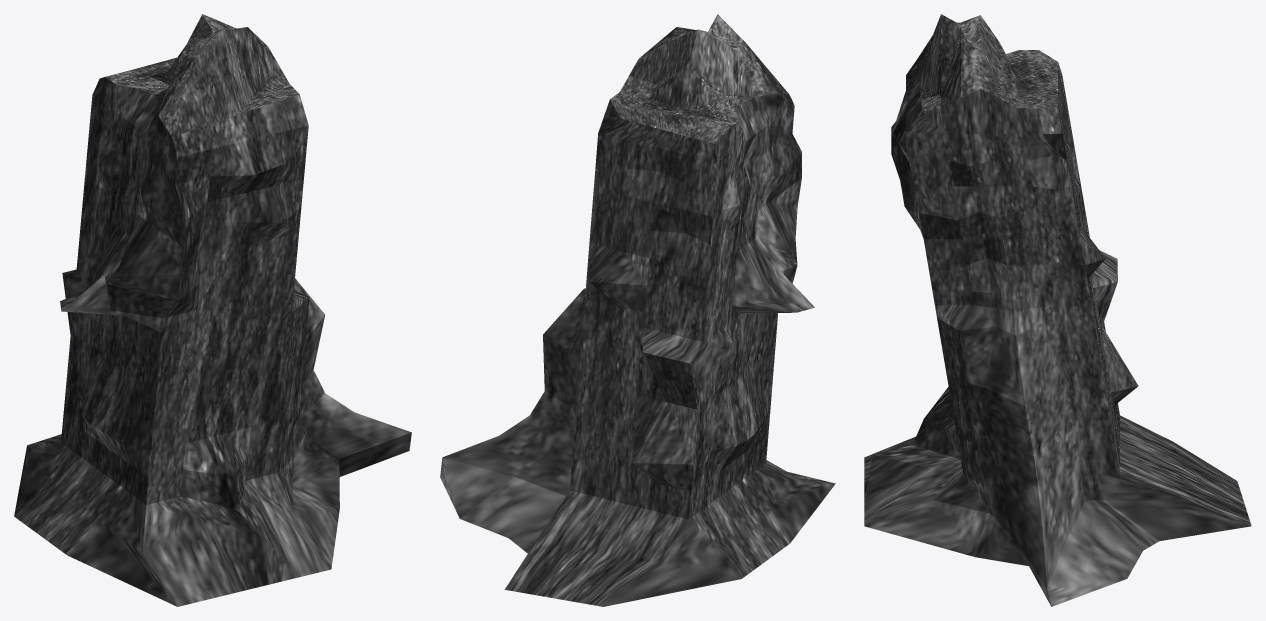
File: skaly2 .glb
3 views of the same model, side by side, from view 1: azimuth 30°, elevation 25°; view 2: azimuth 150°, elevation 25°; view 3: azimuth 270°, elevation 25° (orthographic). The views are drawn at different scales.
Visible parts, largest first — view 1: Cube; view 2: Cube; view 3: Cube.
Boxes of the visible parts, x1,y1,x2,y2 form: Cube: (14,14,411,606); Cube: (440,14,835,606); Cube: (864,14,1251,606).
Size of the model in its own units: 5.81 by 7.86 by 5.58.
1 material, 1 textured.
